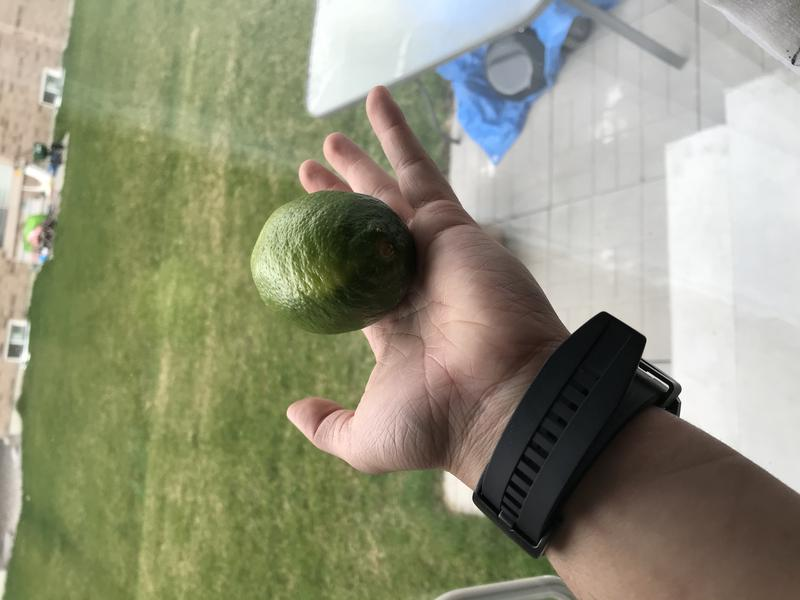lime: (243, 188, 429, 338)
